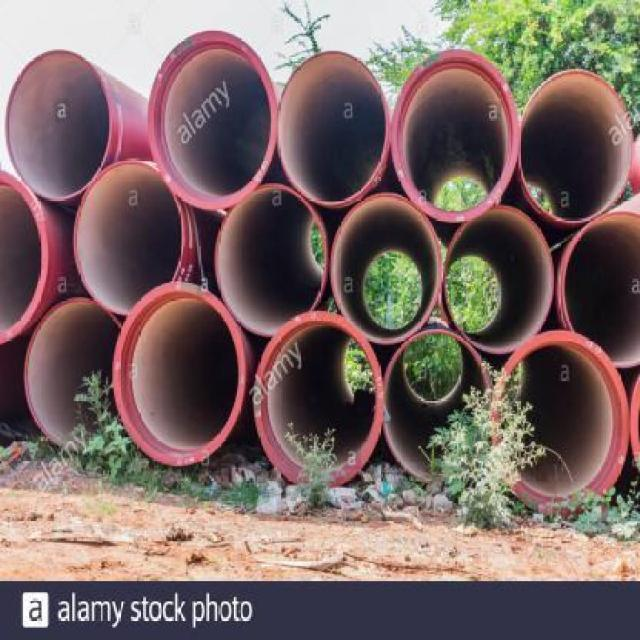pipe: (493, 331, 630, 517), (112, 282, 246, 467), (148, 31, 279, 211), (254, 311, 383, 488), (392, 49, 520, 223), (74, 160, 187, 316), (520, 69, 634, 223), (277, 51, 388, 208), (331, 192, 444, 345), (216, 185, 330, 336), (6, 49, 114, 202), (383, 331, 491, 482), (445, 205, 554, 353), (23, 298, 123, 451), (563, 211, 640, 371), (0, 171, 49, 345)
